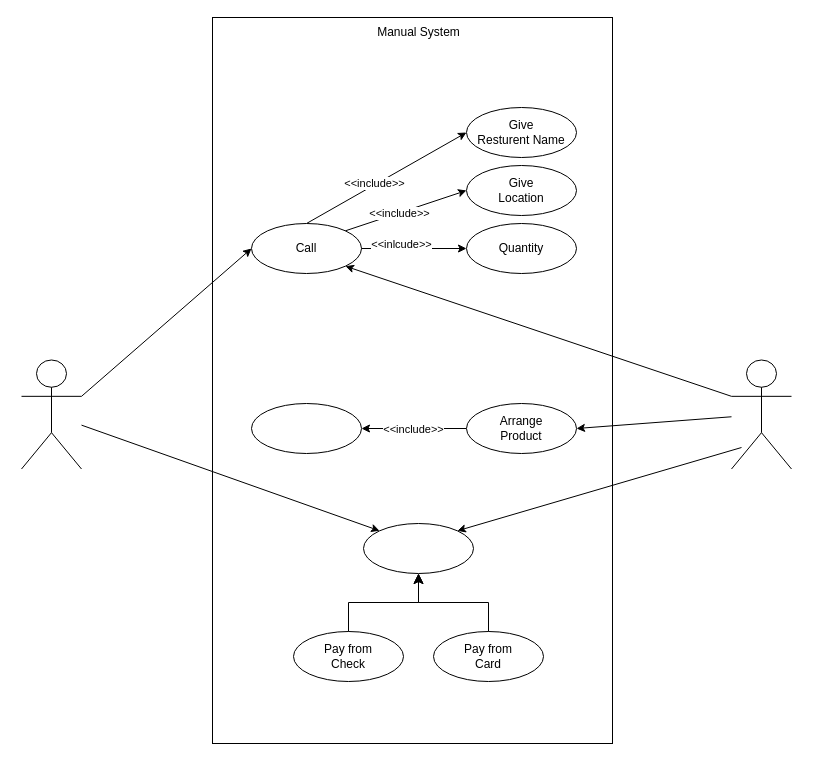
Image size: 821x761. Some labels were removed from this diagram. The box of each missing label's shape, as (x1, y1, x2, y2) in pixels:
Chaking Storage: (250, 402, 362, 454)
CUSTOMER: (20, 359, 82, 469)
Make Payment: (362, 522, 474, 574)
MANAGEMENT: (730, 359, 792, 469)
